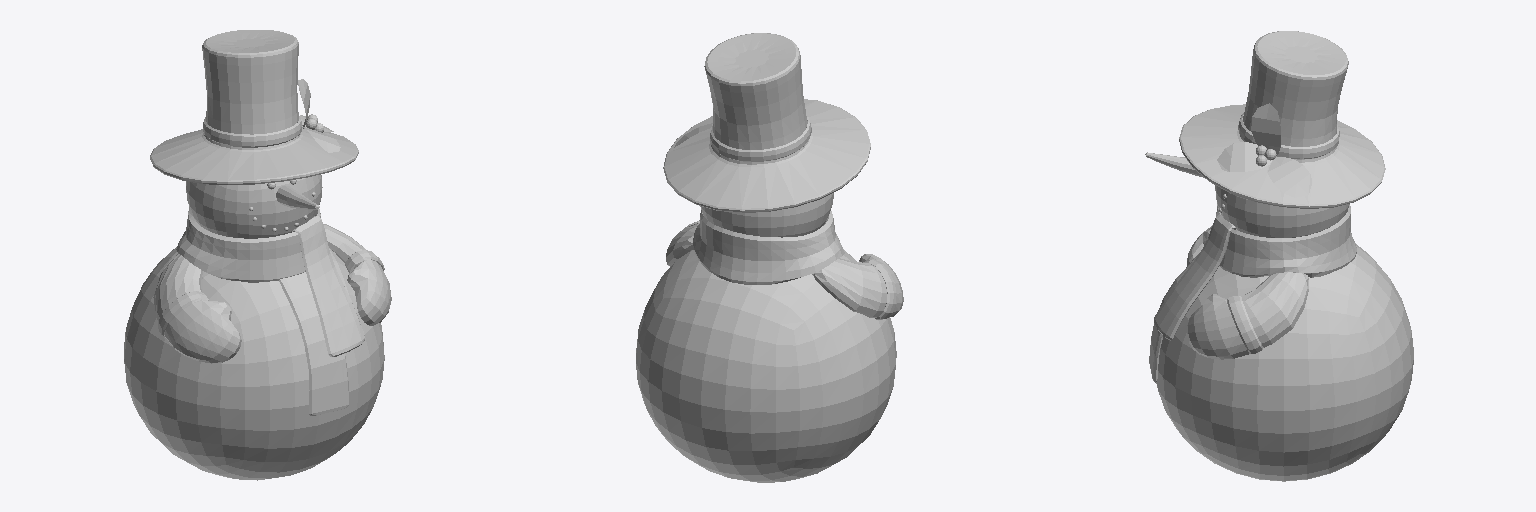
Rendered from snowman.obj.
3 views of the same model, side by side, from view 1: azimuth 30°, elevation 25°; view 2: azimuth 150°, elevation 25°; view 3: azimuth 270°, elevation 25° (orthographic).
Visible parts, largest first — view 1: snowman; view 2: snowman; view 3: snowman.
Boxes of the visible parts, box(x1,y1,x2,y2) form: snowman: box(124, 30, 391, 480); snowman: box(636, 33, 903, 482); snowman: box(1145, 31, 1413, 481).
Bounding box in the file's own units: 0.5603 × 1 × 0.5758.